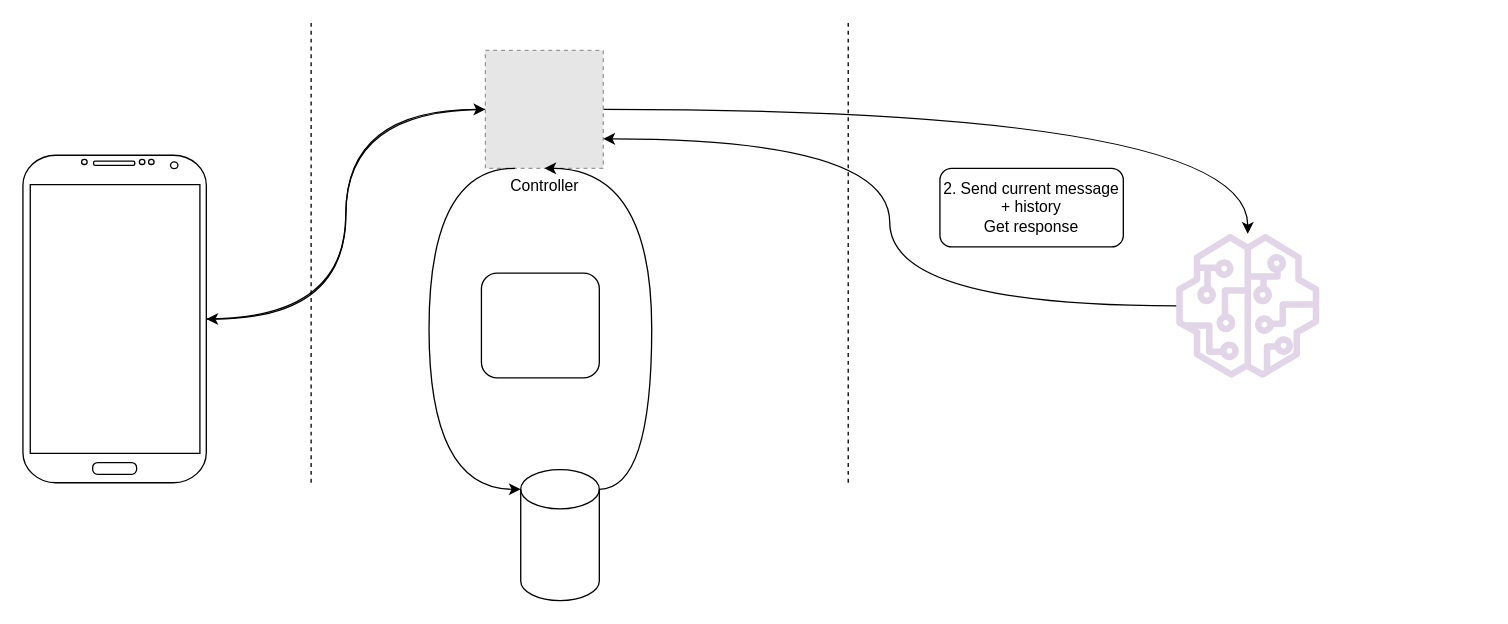
The diagram is 1508 pixels wide and 624 high, and some of its shapes have lost their labels. Grey dashed boxes stand in for pictures. The shapes that lost their labels are listed below. From the top down, each one's centre as x and y in pixels, then its label:
At pixel 539 325: "1. Fetch conversation history".
At pixel 1247 305: "AI Model: generate response using prompt with conversation history".
